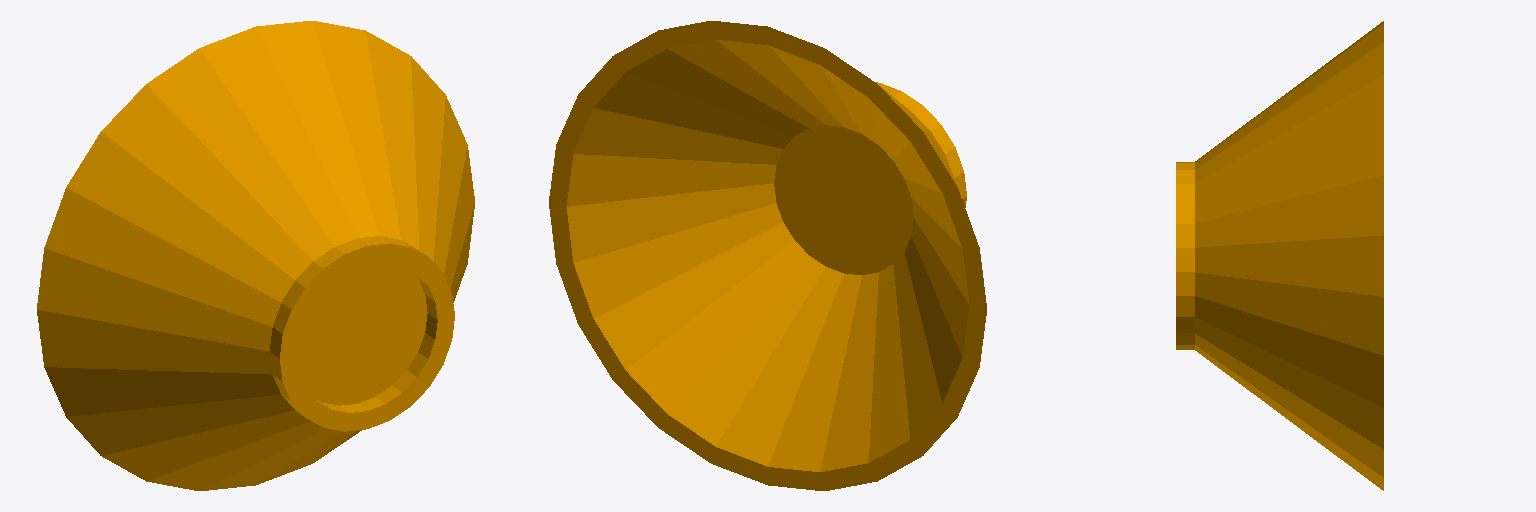
The robot description file, URDF, robot "indenter":
<robot name="indenter">
	<!-- <link name="world">
        </link>

        <joint name="world_to_indenter" type="prismatic">
                <parent link="world"/>
                <child link="indenter"/>
                <origin rpy="0.0 0.0 0.0" xyz="0.0 0.0 0.0"/>
                <axis xyz="0 1 0"/>
                <dynamics damping="0.0" friction="0.0"/>
                <limit lower="0.0" upper="0.4" velocity="1e9" effort="1e9"/>
        </joint> -->

	<link name="indenter">
		<visual>
			<origin rpy="0.0 0.0 0.0" xyz="0.0 0.0 0.0"/>
			<geometry>
				<mesh filename="../../meshes/target_objects/bowl_b_shapenet.obj"/>
			</geometry>
		</visual>
		<collision>
			<origin rpy="0.0 0.0 0.0" xyz="0.0 0.0 0.0"/>
			<geometry>
				<mesh filename="../../meshes/target_objects/bowl_b_shapenet.obj"/>
			</geometry>
		</collision>
		<inertial>
			<origin rpy="0.0 0.0 0.0" xyz="0.0 -8.64389e-3 0.0"/>
			<mass value="0.00224114"/>
			<inertia ixx="6.25553e-8" iyy="4.07645e-8" izz="6.25353e-8" ixy="0.0" ixz="4.69820e-15" iyz="0.0"/>
		</inertial>
	</link>
</robot>

--- Facts derived from the render (not from the file) ---
The picture shows the robot from 3 angles, left to right: view 1: azimuth 30°, elevation 25°; view 2: azimuth 150°, elevation 25°; view 3: azimuth 270°, elevation 25°; orthographic projection.
Robot: indenter — 1 links, 0 joints (none); root link indenter; default pose: every joint at zero.
Links seen in each view (by area): view 1: indenter; view 2: indenter; view 3: indenter.
Boxes of the visible links, x1,y1,x2,y2 form: indenter: [37, 21, 474, 490]; indenter: [549, 21, 986, 490]; indenter: [1176, 21, 1383, 490].
Size in the robot's own frame: 0.177 by 0.0779 by 0.177 metres.
Meshes: 1 distinct files referenced, 1 mesh visuals loaded (1 OBJ).